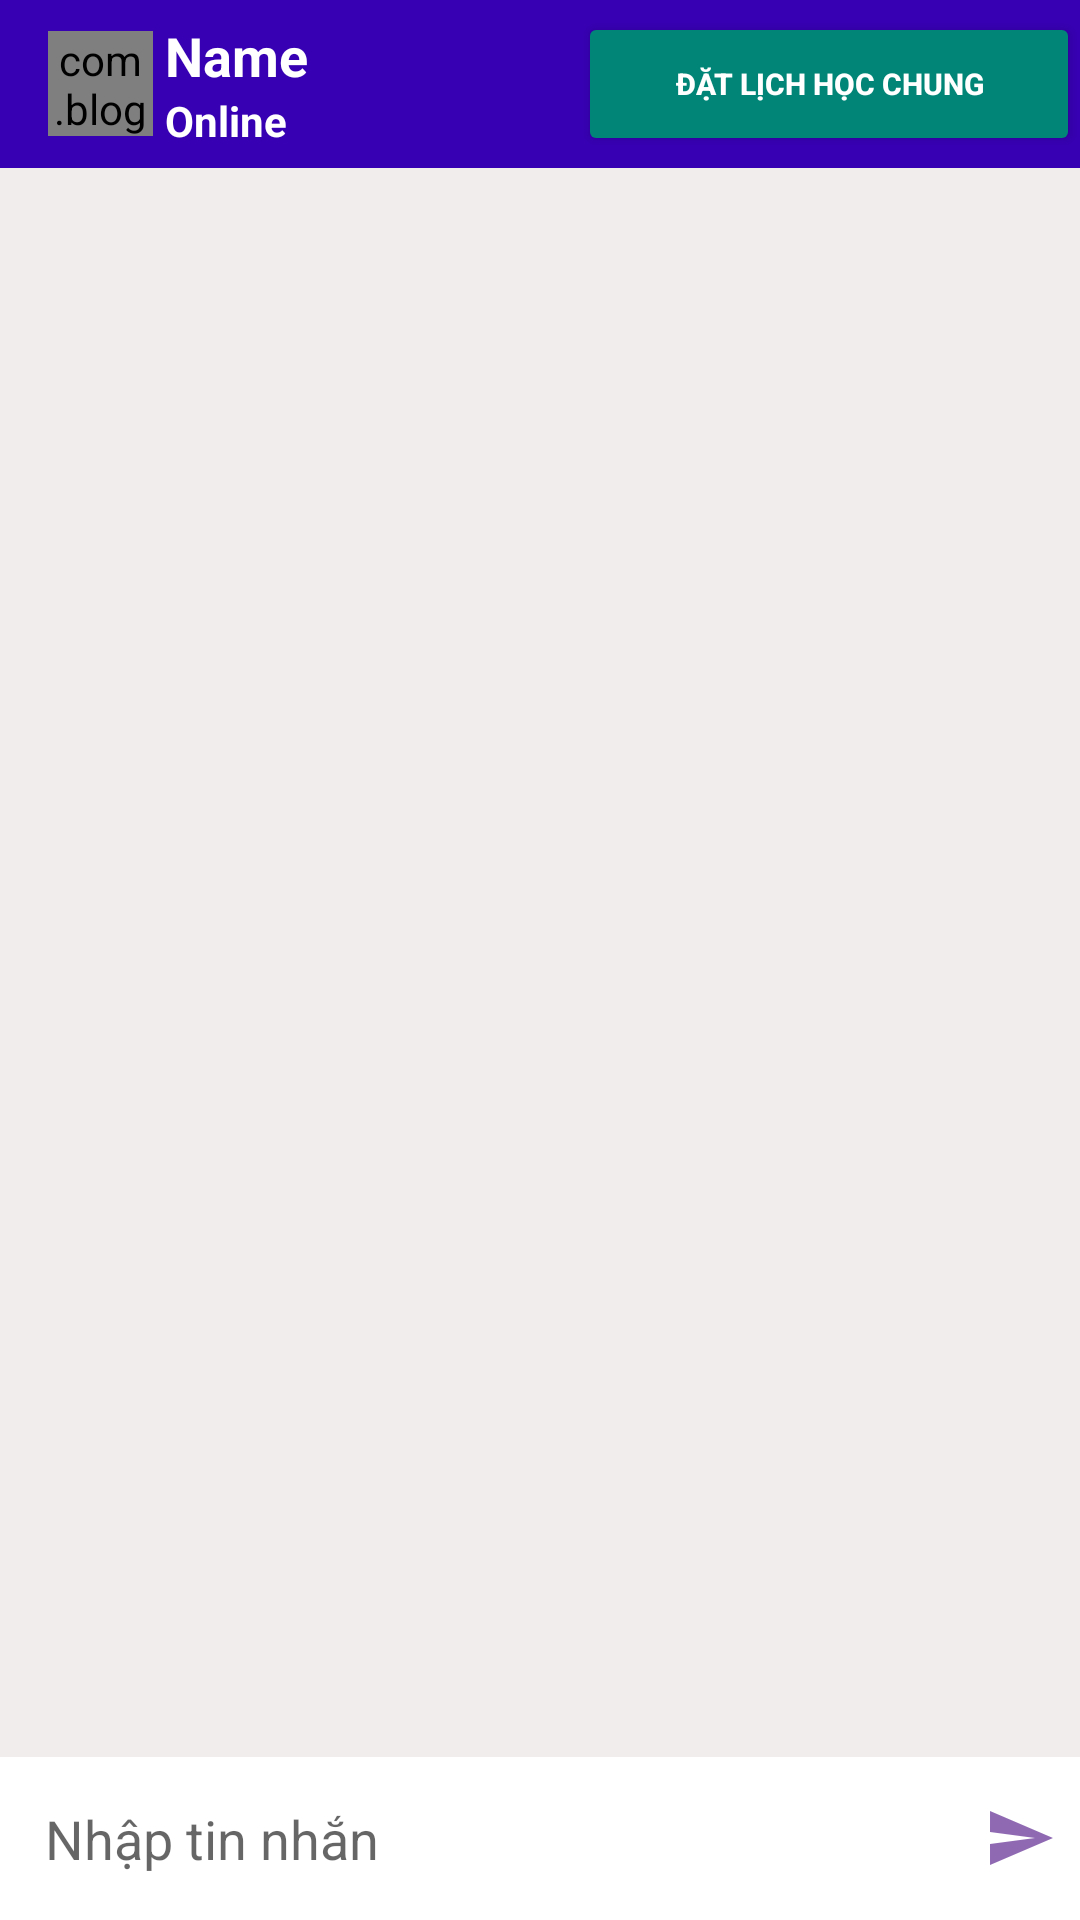

Named icons in this screenshot (1080w x 1920h) and their centers, (x,y):
send: (1021,1838)
